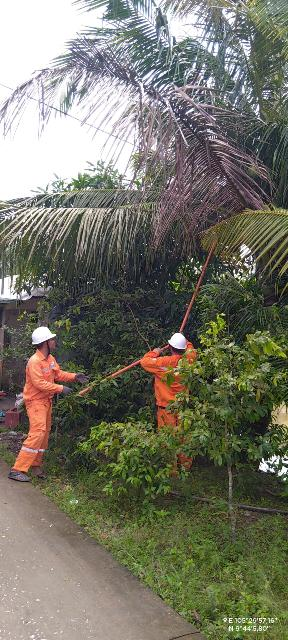gloves: (56, 382, 74, 400), (70, 370, 91, 382), (155, 345, 165, 356)
helmet: (29, 325, 57, 345), (167, 335, 189, 352)
shoes: (6, 467, 31, 484), (31, 467, 56, 482)
